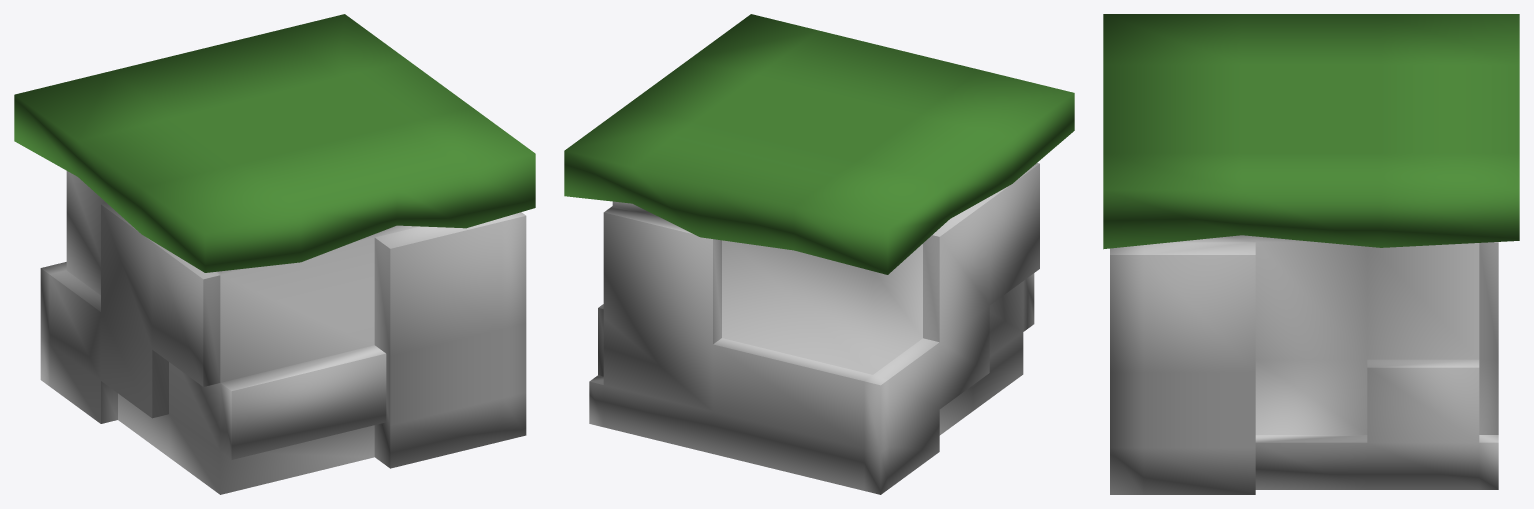
The model's file is Monton.obj.
3 renders of one model, left to right at view 1: azimuth 30°, elevation 25°; view 2: azimuth 150°, elevation 25°; view 3: azimuth 270°, elevation 25°, orthographic. The views are drawn at different scales.
Visible parts, largest first — view 1: Cube.142; view 2: Cube.142; view 3: Cube.142.
Boxes of the visible parts, box(x1,y1,x2,y2) form: Cube.142: box(14, 14, 535, 494); Cube.142: box(564, 14, 1074, 494); Cube.142: box(1103, 14, 1519, 494).
Bounding box in the file's own units: 2.48 × 2.03 × 2.48.
